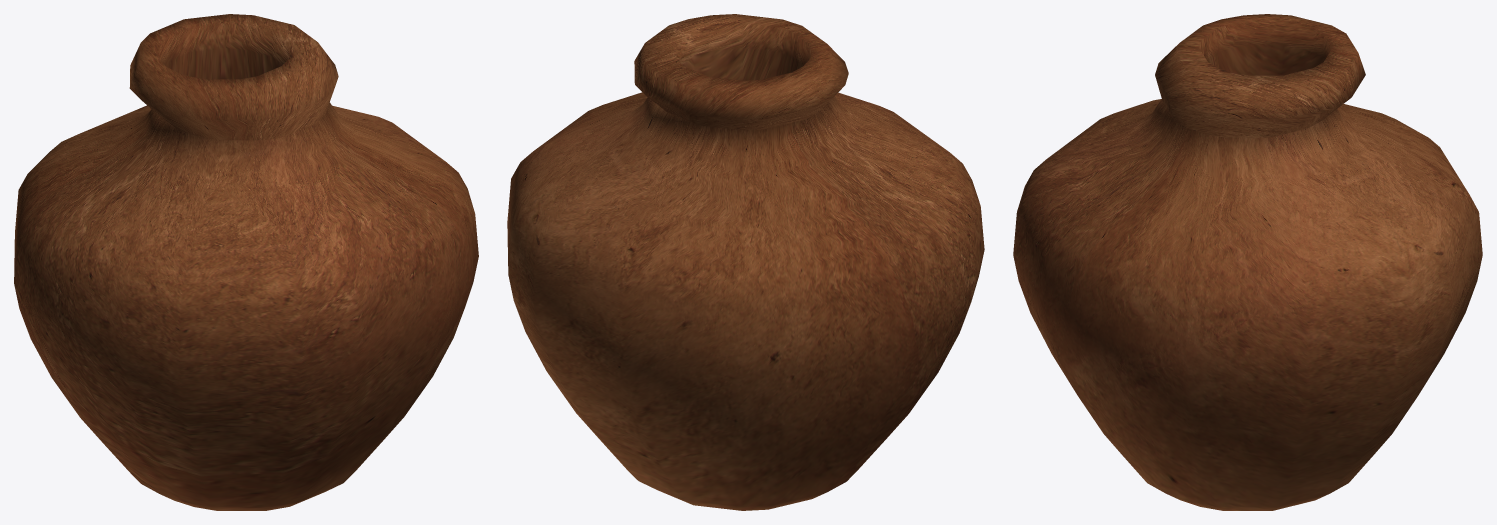
Rendered from vase.fbx.
The picture shows the model from 3 angles, left to right: view 1: azimuth 30°, elevation 25°; view 2: azimuth 150°, elevation 25°; view 3: azimuth 270°, elevation 25°; orthographic projection. The views are drawn at different scales.
Visible parts, largest first — view 1: vase; view 2: vase; view 3: vase.
Boxes of the visible parts, <box> form: vase: <box>14,14,478,510</box>; vase: <box>507,14,984,510</box>; vase: <box>1013,14,1482,510</box>.
Bounding box in the file's own units: 75 × 75 × 75.
